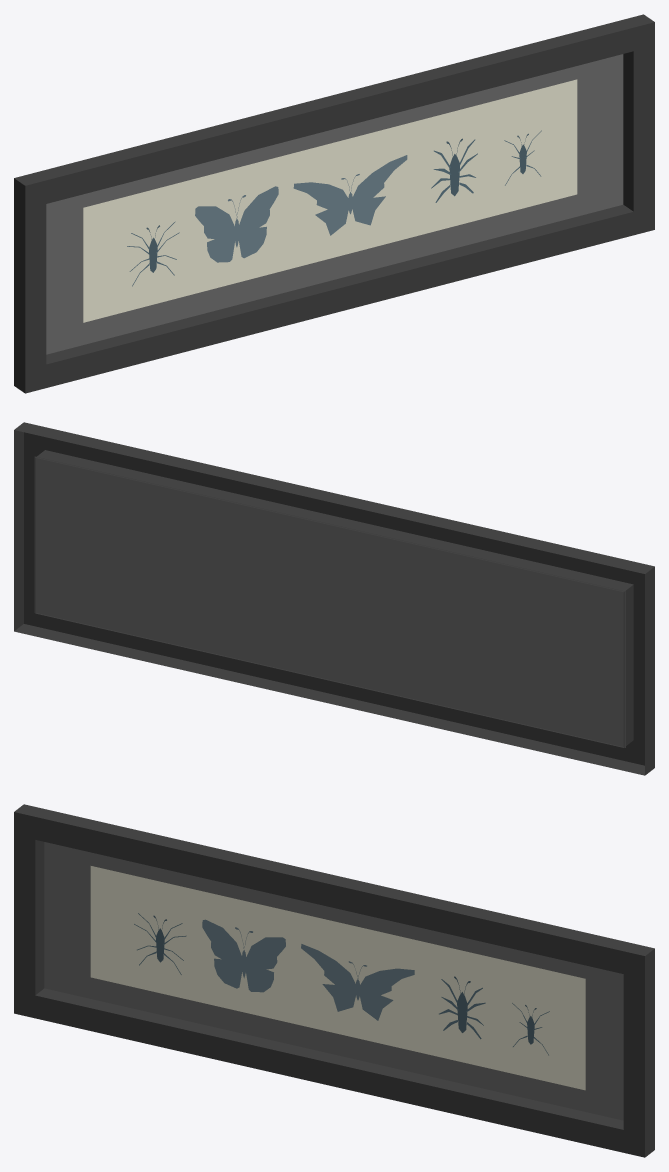
File: Photo_Frame_M_04.fbx
3 renders of one model, top to bottom at view 1: azimuth 30°, elevation 25°; view 2: azimuth 150°, elevation 25°; view 3: azimuth 330°, elevation 25°, orthographic. The views are drawn at different scales.
Parts seen in each view (by area): view 1: Photo_Frame_M_04; view 2: Photo_Frame_M_04; view 3: Photo_Frame_M_04.
Boxes of the visible parts, x1=… form: Photo_Frame_M_04: x1=14, y1=14, x2=654, y2=393; Photo_Frame_M_04: x1=14, y1=422, x2=654, y2=775; Photo_Frame_M_04: x1=14, y1=804, x2=654, y2=1157.
Size of the model in its own units: 98.4 by 30.49 by 5.61.
Materials: 1 (1 with a texture image).
